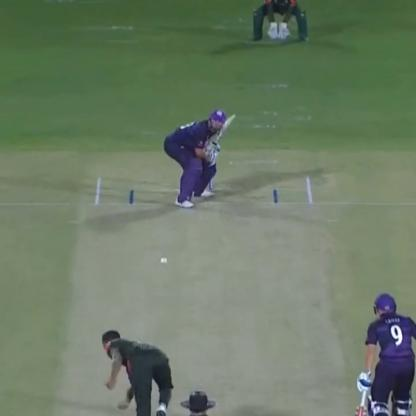ball: (159, 254, 170, 267)
bat: (345, 379, 378, 415), (210, 114, 237, 156)
pitch: (73, 176, 358, 415)
